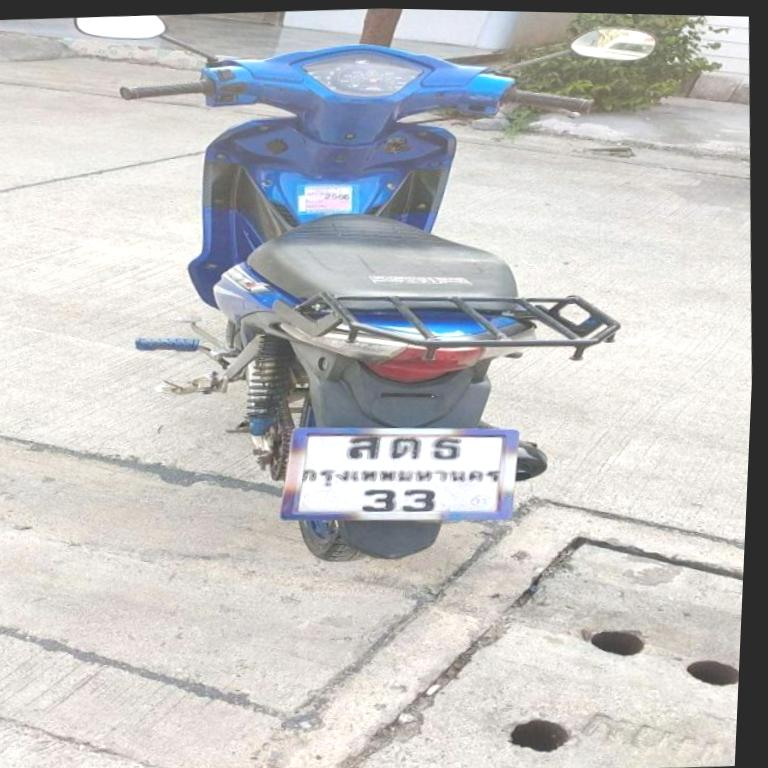license plate: (283, 428, 516, 521)
